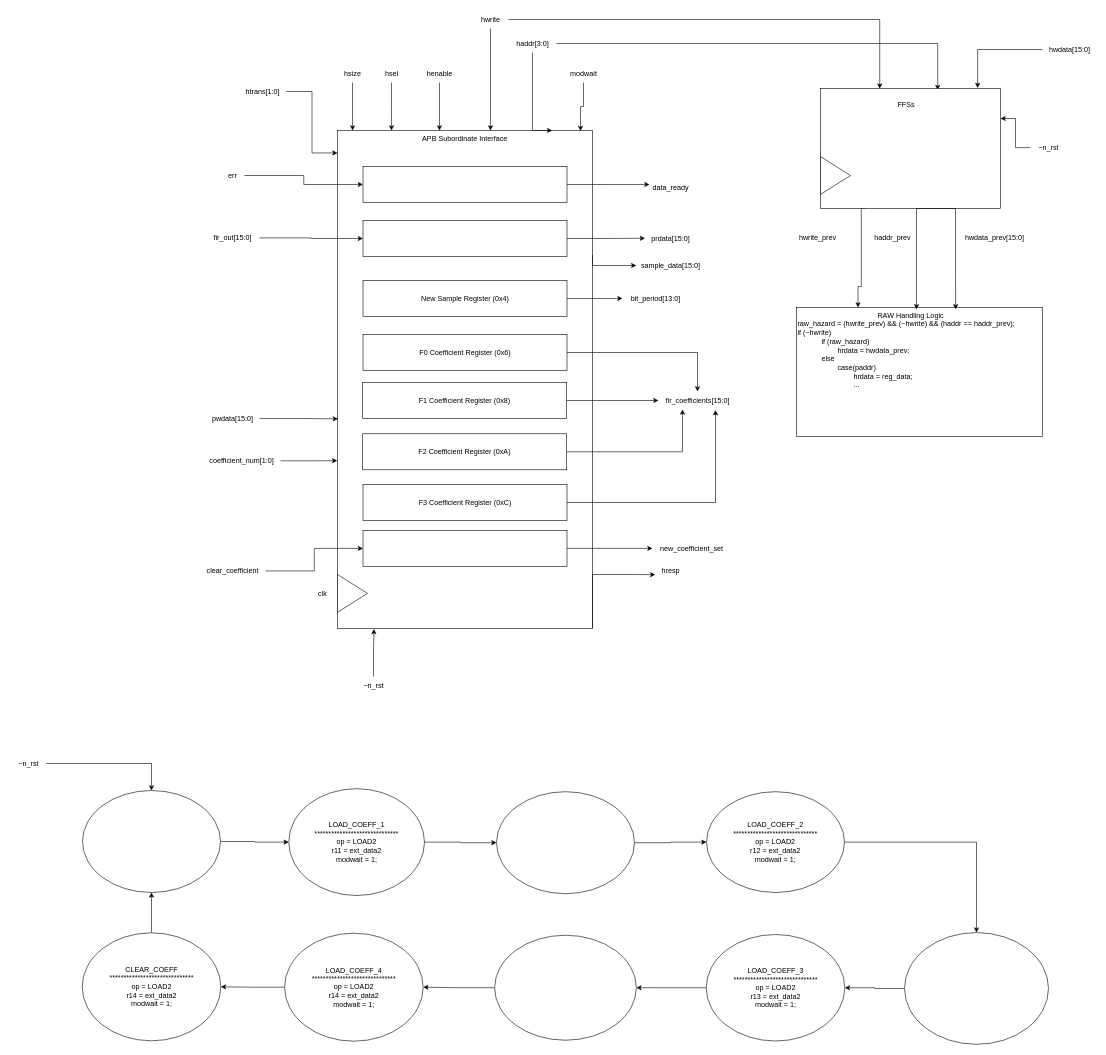
The diagram is 1106 pixels wide and 1055 high, and some of its shapes have lost their labels. The centre of each missing label's shape, as x and y in pixels:
"IDLE ****************************** op = NOP;" goes at [151,841].
"New Coefficient Set Confirmation Register (0xE)" goes at [464,548].
"Result Register (0x2)" goes at [464,238].
"Status Register (0x0)" goes at [464,184].
"WAIT_LC1 ****************************** op = NOP; modwait = 1;" goes at [565,842].
"WAIT_LC2 ****************************** op = NOP; modwait = 1;" goes at [976,988].
"WAIT_LC3 ****************************** op = NOP; modwait = 1;" goes at [565,987].
